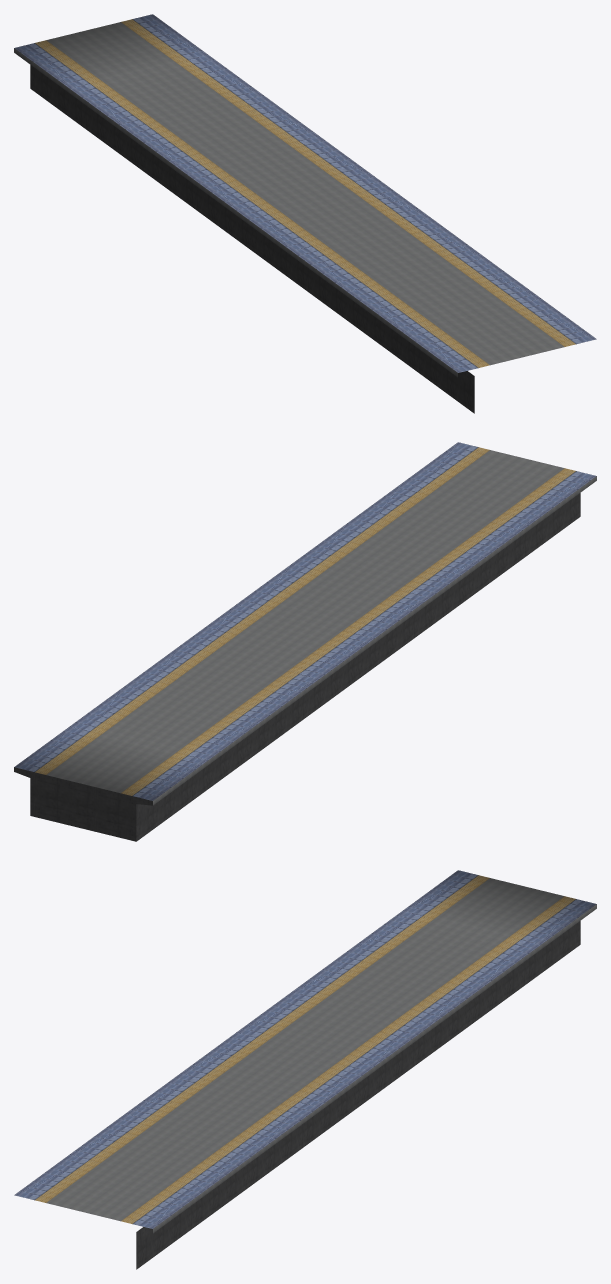
Rendered from AMB_HOME1_CENTER.glb.
The picture shows the model from 3 angles, top to bottom: view 1: azimuth 30°, elevation 25°; view 2: azimuth 150°, elevation 25°; view 3: azimuth 330°, elevation 25°; orthographic projection.
Parts seen in each view (by area): view 1: Mesh1; view 2: Mesh1; view 3: Mesh1.
Part boxes in pixels (left/top/right/bottom): Mesh1: left=14, top=14, right=596, bottom=413; Mesh1: left=14, top=442, right=596, bottom=841; Mesh1: left=14, top=870, right=596, bottom=1269.
Size of the model in its own units: 18.05 by 5.55 by 100.
4 materials, 4 textured.
